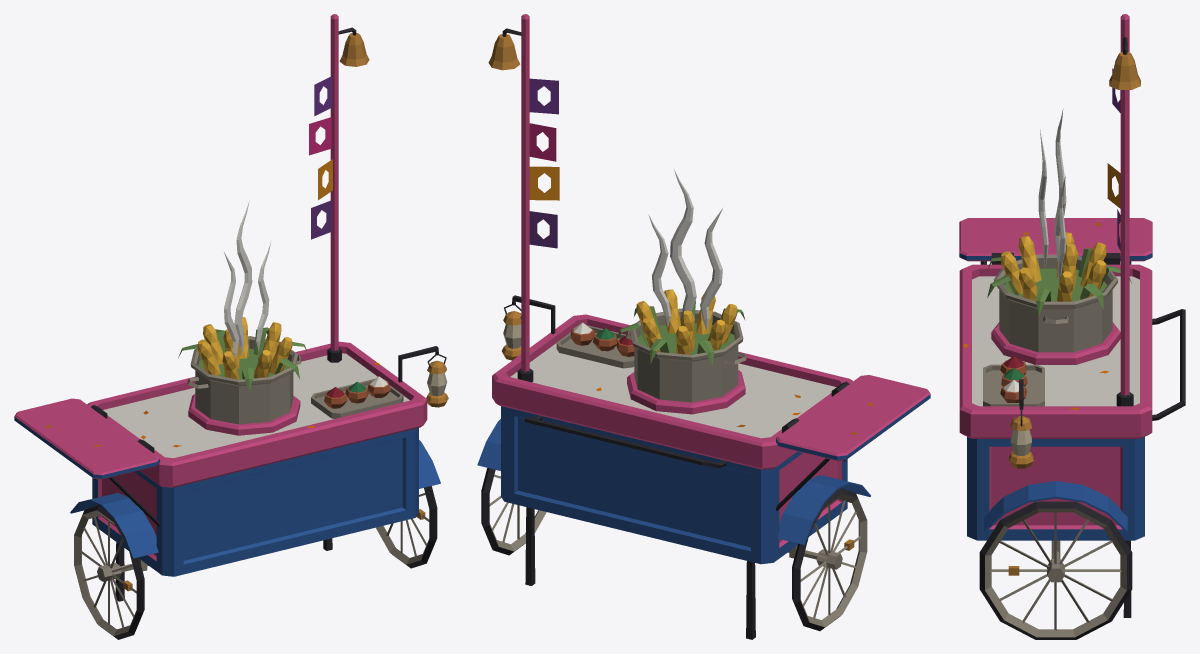
Rendered from elote-cart-a8fb49.glb.
3 views of the same model, side by side, from view 1: azimuth 30°, elevation 25°; view 2: azimuth 150°, elevation 25°; view 3: azimuth 270°, elevation 25° (orthographic). The views are drawn at different scales.
Visible parts, largest first — view 1: elote-cart-a8fb49; view 2: elote-cart-a8fb49; view 3: elote-cart-a8fb49.
Part boxes in pixels (x1,y1,x2,y2): elote-cart-a8fb49: [14, 14, 448, 639]; elote-cart-a8fb49: [477, 14, 930, 639]; elote-cart-a8fb49: [959, 14, 1185, 639].
Bounding box in the file's own units: 2 × 2.7 × 0.9175.
